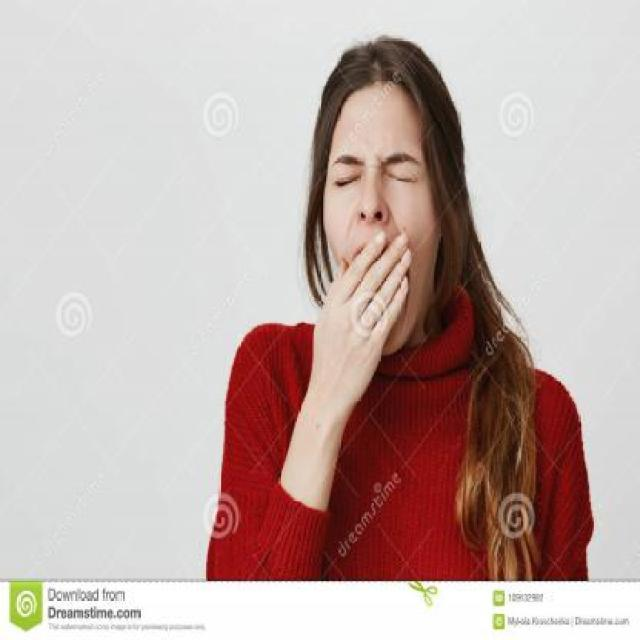Sleepy: (328, 148, 427, 327)
